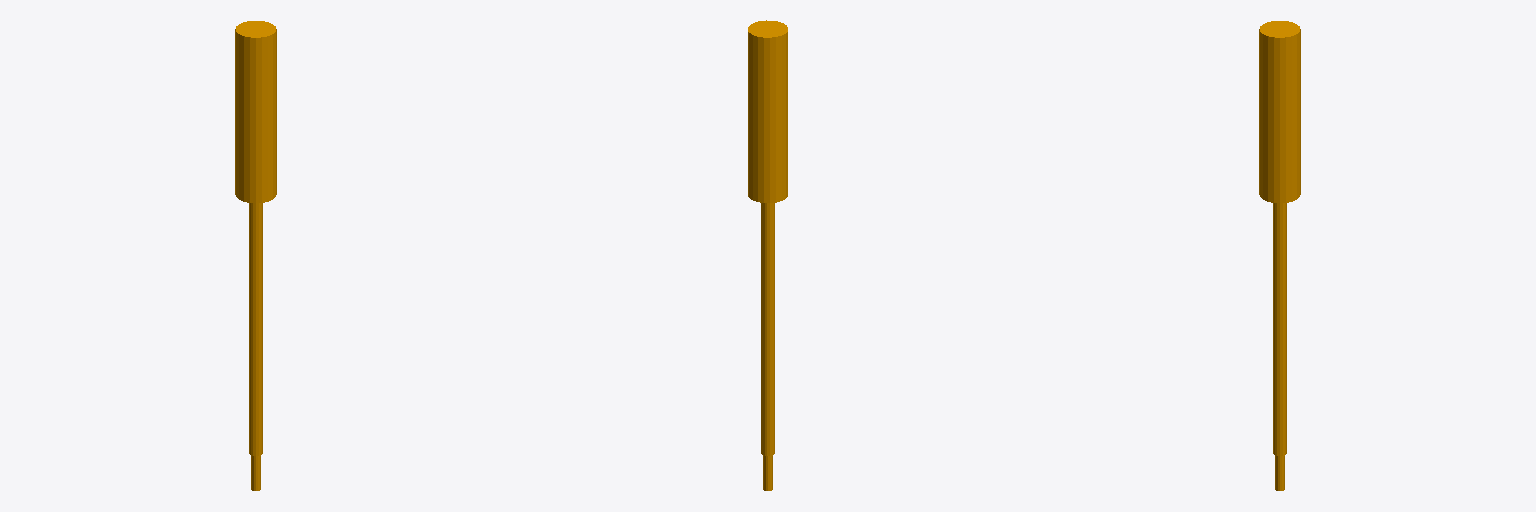
URDF robot description (falling_screwdriver_affordance):
<?xml version="1.0"?>
<robot name="falling_screwdriver_affordance">
  <link name="tool">
    <inertial>
      <origin xyz="0 0 0" rpy="0 0 0"/>
      <mass value="0.085"/>
      <inertia ixx="0.00055" ixy="0" ixz="0" iyy="0.00055" iyz="0" izz="0.000018"/>
    </inertial>
    <visual>
      <origin xyz="0 0 0" rpy="0 0 0"/>
      <geometry><mesh filename="screwdriver_affordance.obj" scale="1 1 1"/></geometry>
    </visual>
    <collision>
      <origin xyz="0 0 0" rpy="0 0 0"/>
      <geometry><mesh filename="screwdriver_affordance.obj" scale="1 1 1"/></geometry>
    </collision>
  </link>
</robot>

--- What the picture shows (computed from the rendered views, not written in the file) ---
3 views of the same robot in one strip: view 1: azimuth 90°, elevation 25°; view 2: azimuth 150°, elevation 25°; view 3: azimuth 270°, elevation 25° (orthographic).
Robot: falling_screwdriver_affordance — 1 links, 0 joints (none); root link tool; default pose: every joint at zero.
Links seen in each view (by area): view 1: tool; view 2: tool; view 3: tool.
Boxes of the visible links, box(x1,y1,x2,y2) form: tool: box(235, 21, 276, 490); tool: box(748, 20, 787, 490); tool: box(1259, 21, 1300, 490).
Bounding box of the posed robot: 0.036 × 0.036 × 0.445 m (x, y, z).
1 mesh visuals loaded from 1 distinct referenced files (1 OBJ).
